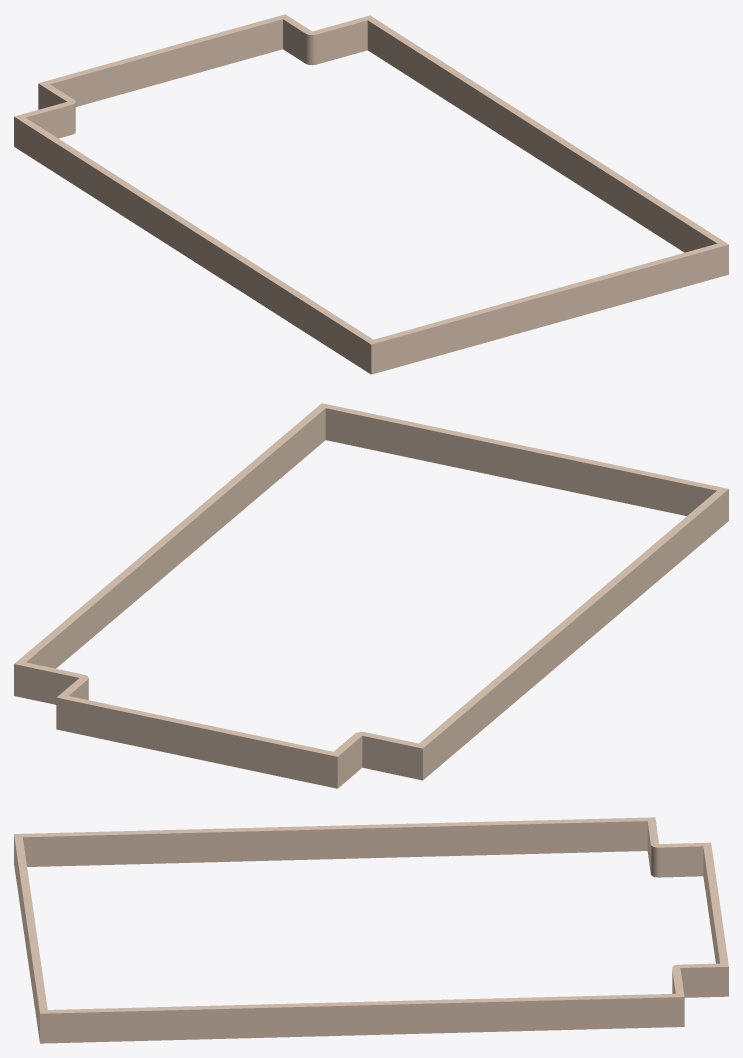
The picture shows the model from 3 angles, top to bottom: view 1: azimuth 30°, elevation 25°; view 2: azimuth 150°, elevation 25°; view 3: azimuth 270°, elevation 25°; orthographic projection. The views are drawn at different scales.
Parts seen in each view (by area): view 1: SM_8104ab3aca91ec3ee2c3; view 2: SM_8104ab3aca91ec3ee2c3; view 3: SM_8104ab3aca91ec3ee2c3.
Part boxes in pixels (x1,y1,x2,y2): SM_8104ab3aca91ec3ee2c3: (14, 14, 728, 374); SM_8104ab3aca91ec3ee2c3: (14, 403, 728, 788); SM_8104ab3aca91ec3ee2c3: (14, 817, 728, 1043).
Size of the model in its own units: 10.07 by 15.5 by 0.715.
